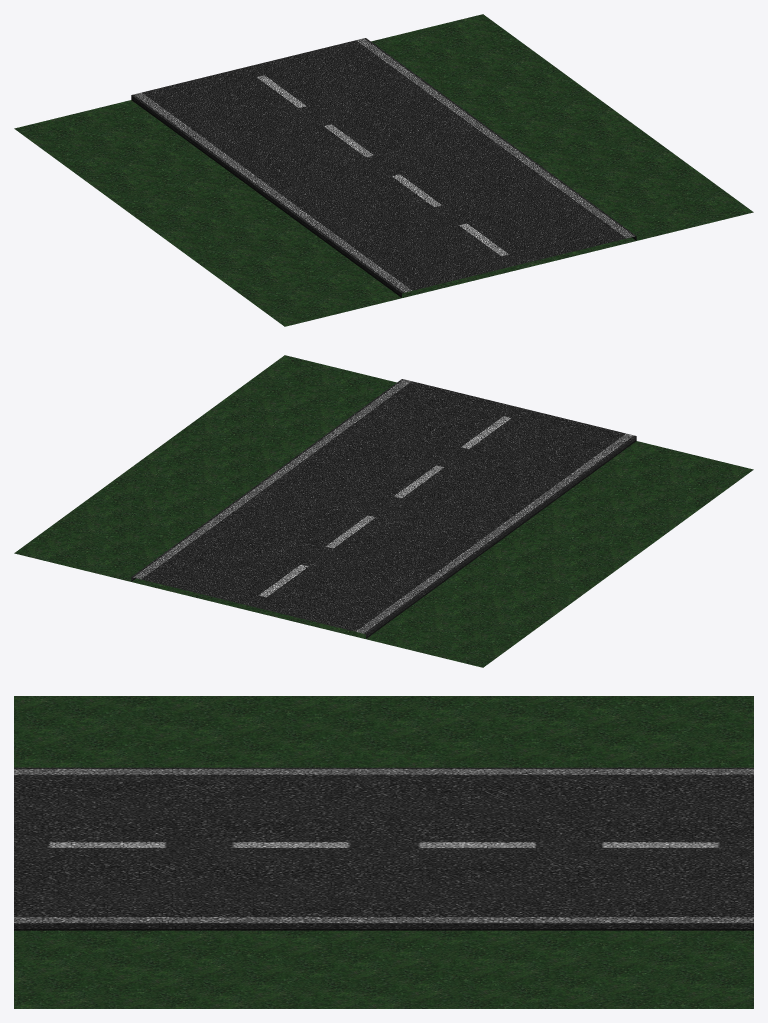
Rendered from road_straight.obj.
3 views of the same model, one above another, from view 1: azimuth 30°, elevation 25°; view 2: azimuth 150°, elevation 25°; view 3: azimuth 270°, elevation 25° (orthographic). The views are drawn at different scales.
Visible parts, largest first — view 1: Plane, Plane.001; view 2: Plane, Plane.001; view 3: Plane, Plane.001.
Part boxes in pixels (x1=…): Plane: x1=131, y1=38, x2=636, y2=297; Plane.001: x1=14, y1=14, x2=753, y2=326; Plane: x1=131, y1=379, x2=636, y2=638; Plane.001: x1=14, y1=355, x2=753, y2=667; Plane: x1=14, y1=767, x2=753, y2=930; Plane.001: x1=14, y1=696, x2=753, y2=1008.
Bounding box in the file's own units: 10 × 0.1 × 10.
